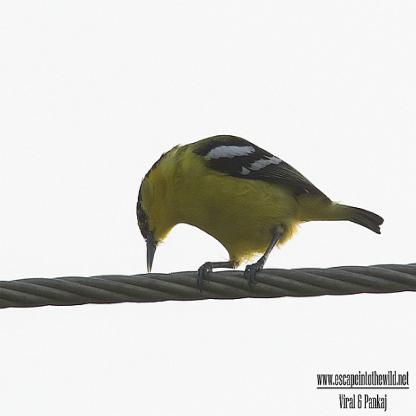Burung: (136, 134, 383, 291)
